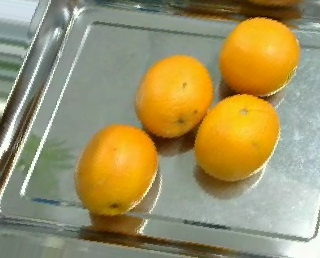Orange: (194, 93, 281, 182), (74, 125, 159, 215), (219, 16, 301, 97), (134, 55, 213, 137)
